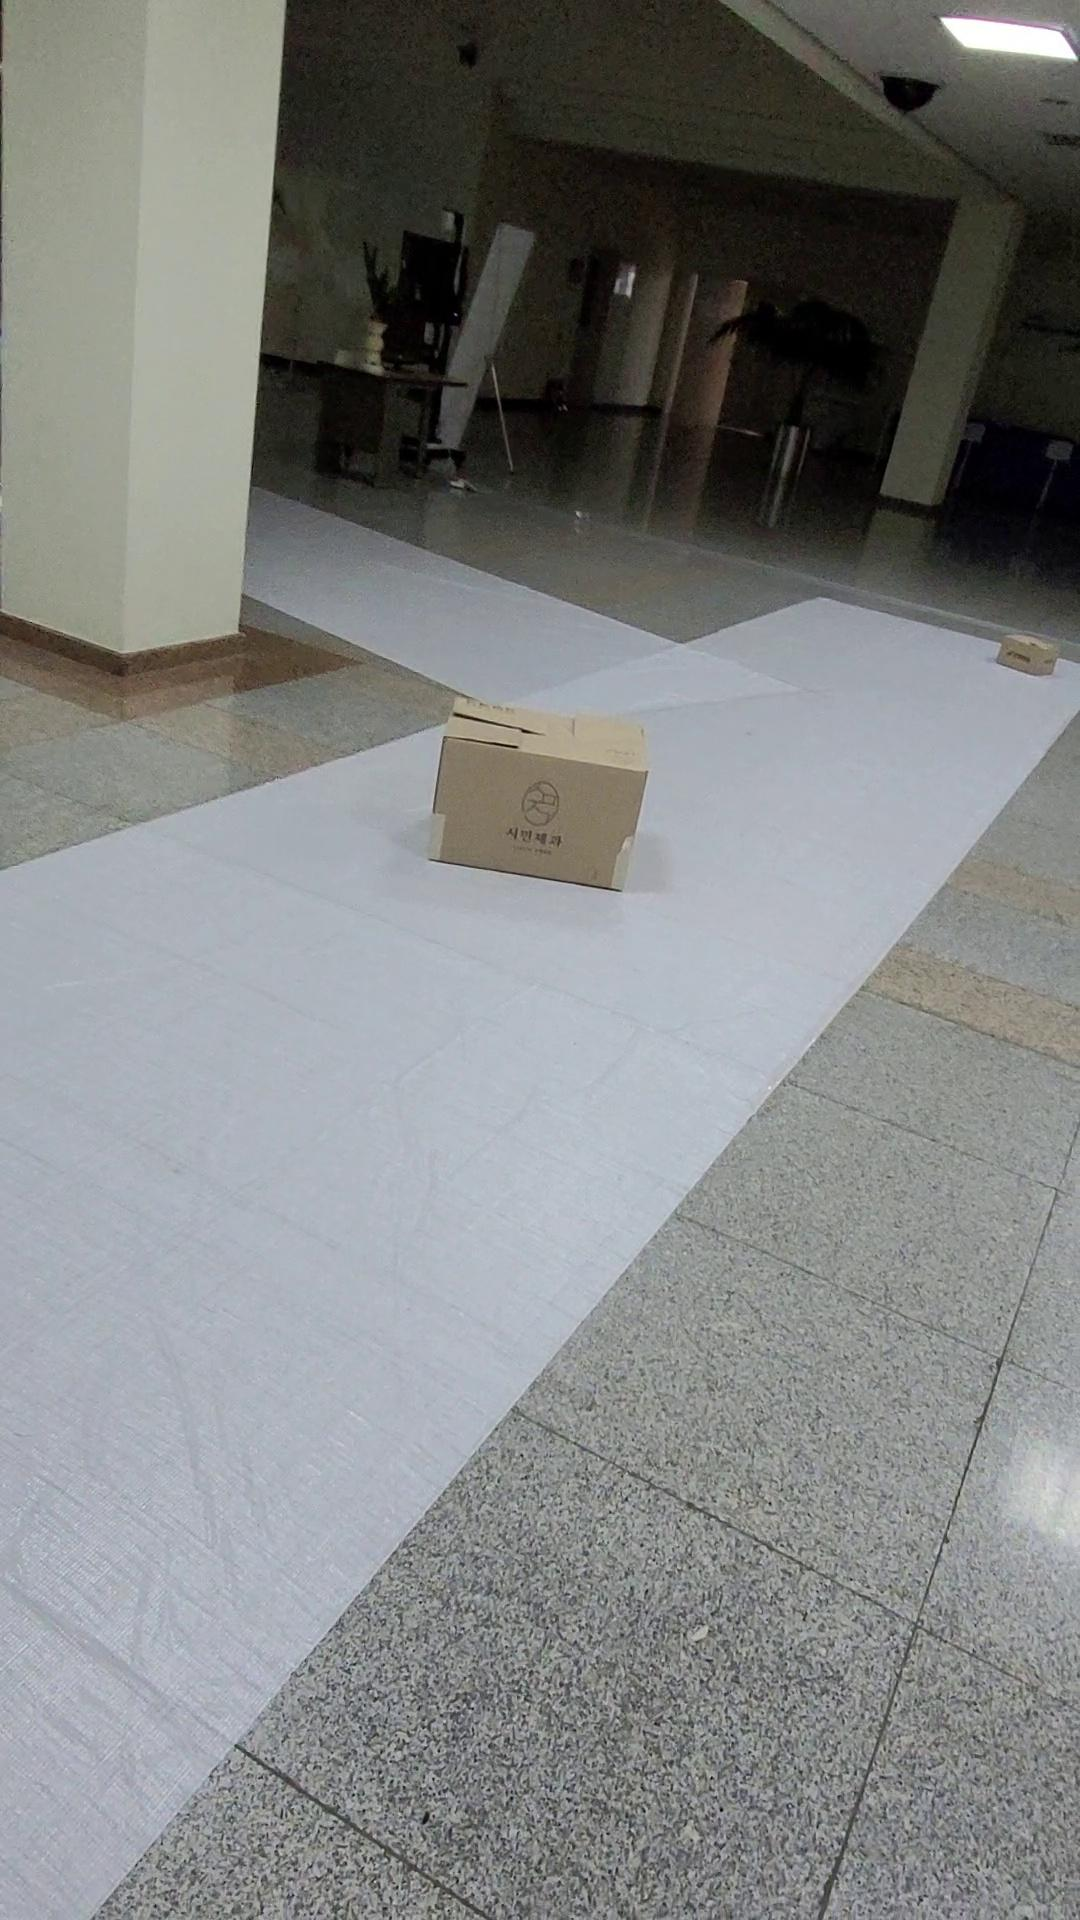Box: (429, 669, 665, 905), (968, 618, 1077, 700)
